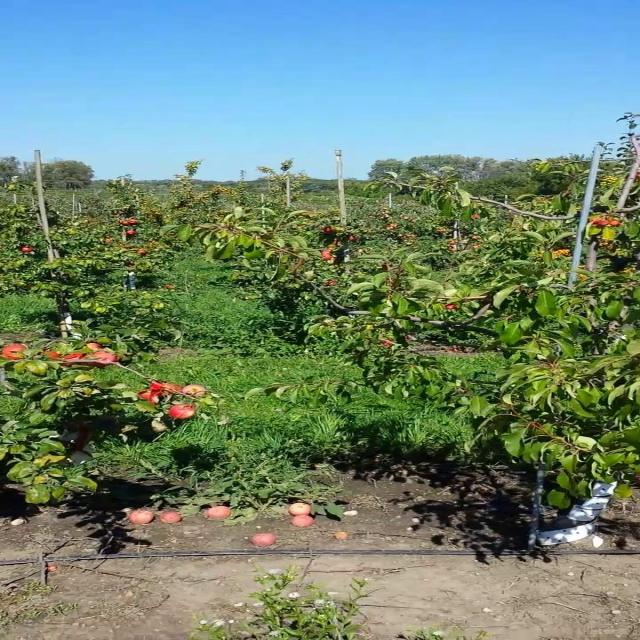apple: (170, 404, 199, 420), (92, 352, 121, 368), (63, 352, 87, 368), (6, 344, 28, 360), (148, 384, 178, 395), (156, 384, 183, 395), (148, 384, 169, 394), (184, 388, 206, 397), (42, 352, 64, 361), (42, 352, 64, 360), (141, 392, 156, 403), (84, 344, 105, 351), (383, 340, 393, 348)
